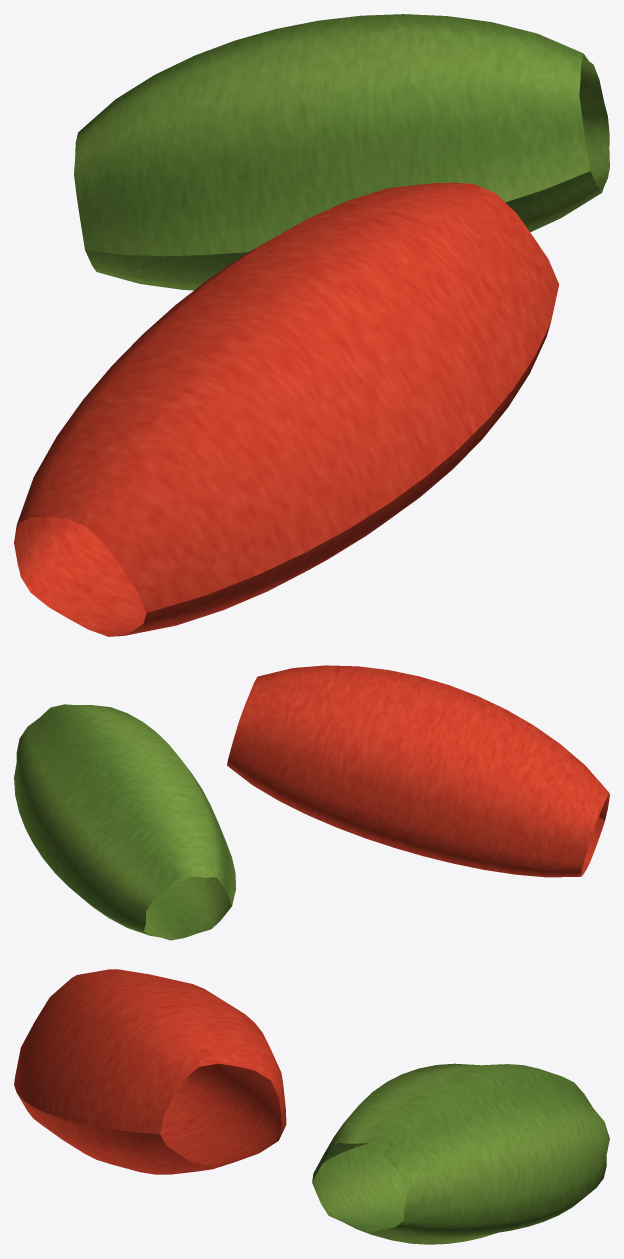
Rendered from 13_Veg_Left_Pumpkin_and_Zucchini.obj.
3 renders of one model, top to bottom at view 1: azimuth 30°, elevation 25°; view 2: azimuth 150°, elevation 25°; view 3: azimuth 270°, elevation 25°, orthographic. The views are drawn at different scales.
Parts seen in each view (by area): view 1: 13_Veg_Left_Pumpkin_and_Zucchini; view 2: 13_Veg_Left_Pumpkin_and_Zucchini; view 3: 13_Veg_Left_Pumpkin_and_Zucchini.
Boxes of the visible parts, left/top/right/bottom form: 13_Veg_Left_Pumpkin_and_Zucchini: left=14, top=14, right=609, bottom=636; 13_Veg_Left_Pumpkin_and_Zucchini: left=14, top=665, right=609, bottom=940; 13_Veg_Left_Pumpkin_and_Zucchini: left=14, top=969, right=609, bottom=1244.
Bounding box in the file's own units: 0.0836 × 0.0294 × 0.0792.
Materials: 1 (1 with a texture image).
